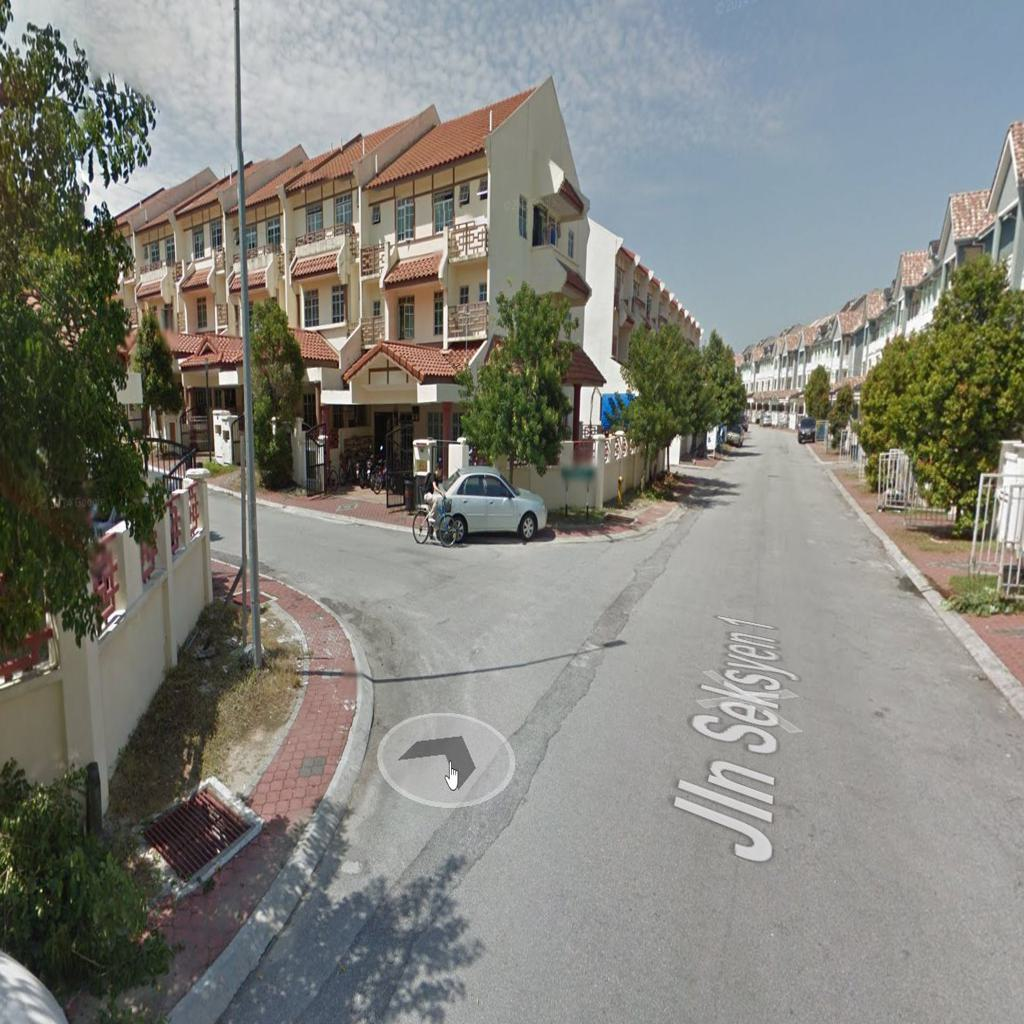Junction: (276, 484, 651, 781)
